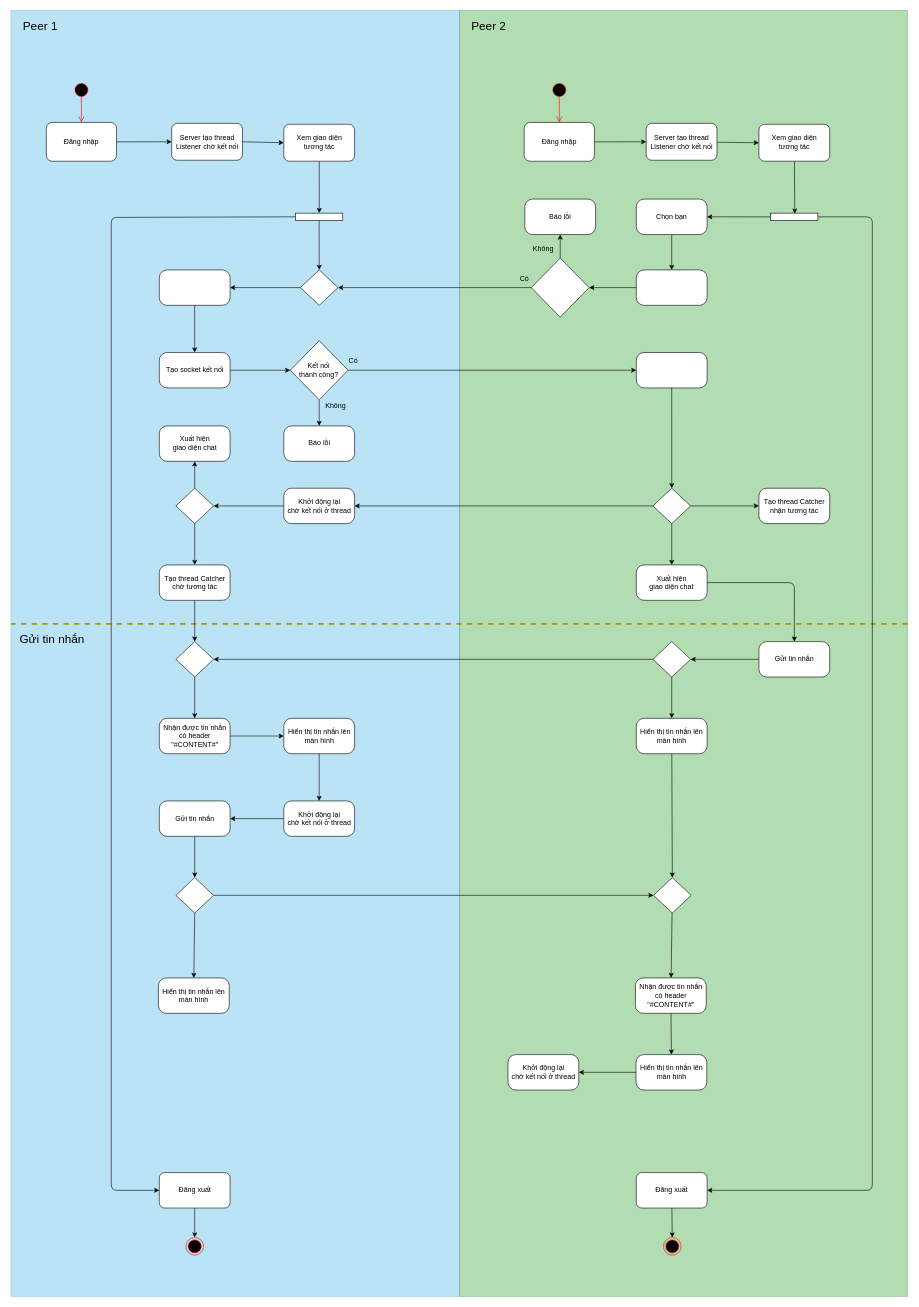
Image size: 919x1307. Some labels were removed from this diagram. Each missing label, with the centre of its shape:
Gửi tín hiệu "#CHAT#", chờ kết nối socket: the point at 671,287
Nhận tín hiệu "#CHAT#": the point at 194,287
Nhận được phản hồi, kết nối socket: the point at 671,370
Peer phản hồi?: the point at 560,287
